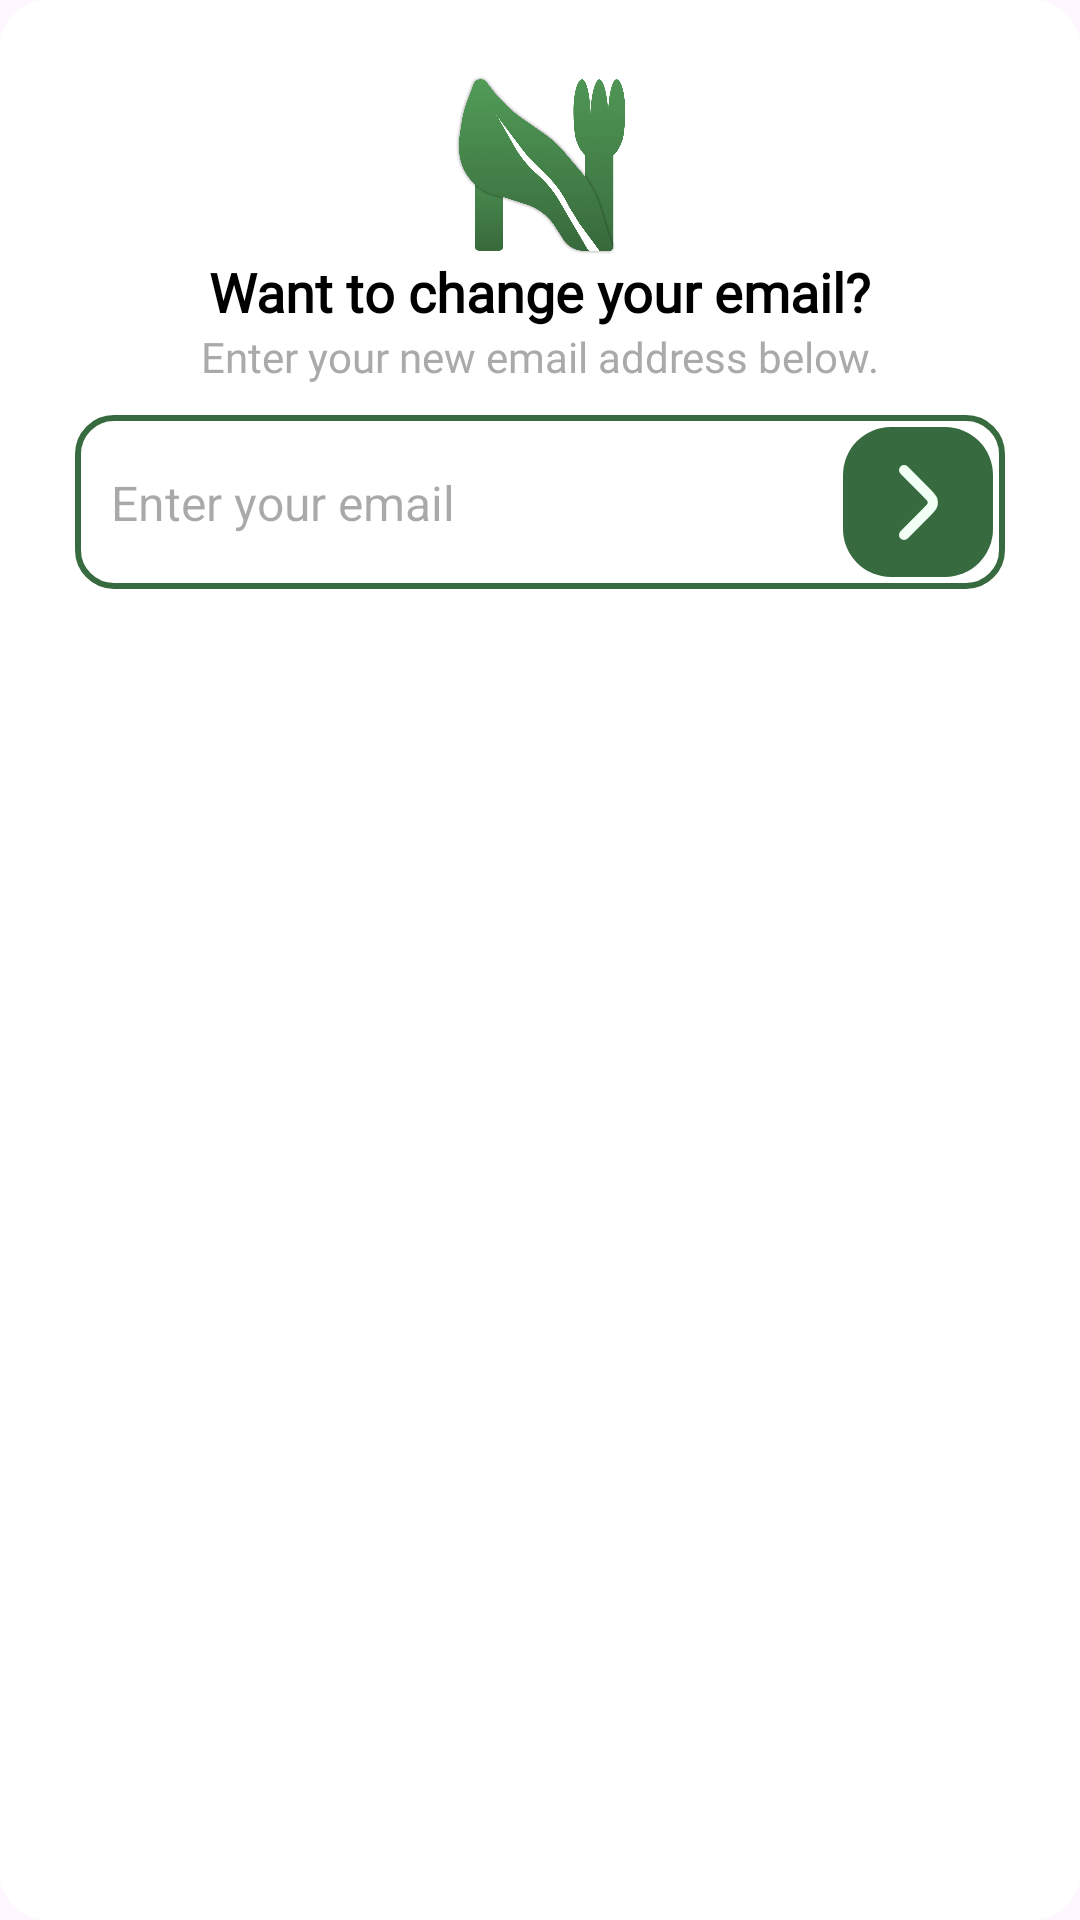

Icons on this 1080 × 1920 Android screen, each with its box as (left=x1, top=y1, right=x2, bottom=y2):
Submit: (left=843, top=427, right=993, bottom=577)
